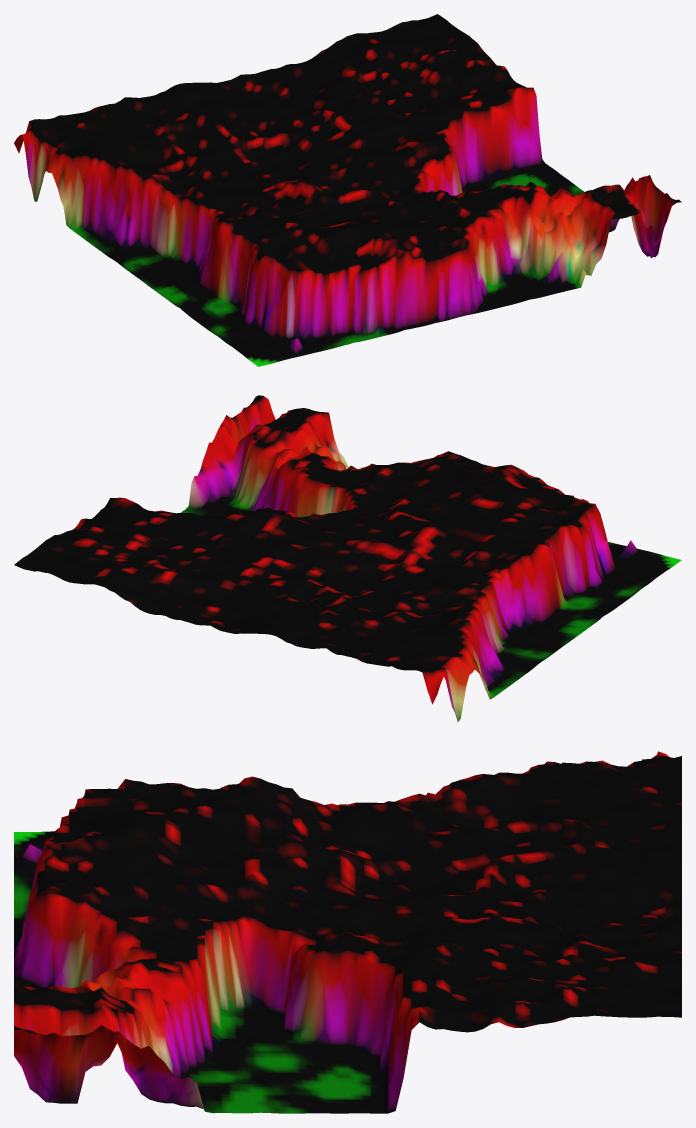
File: SM_AlUla_Terrain_3_3.fbx
3 renders of one model, top to bottom at view 1: azimuth 30°, elevation 25°; view 2: azimuth 150°, elevation 25°; view 3: azimuth 270°, elevation 25°, orthographic. The views are drawn at different scales.
Visible parts, largest first — view 1: SM_AlUla_Terrain_3_3; view 2: SM_AlUla_Terrain_3_3; view 3: SM_AlUla_Terrain_3_3.
Boxes of the visible parts, x1,y1,x2,y2 form: SM_AlUla_Terrain_3_3: (14, 14, 681, 366); SM_AlUla_Terrain_3_3: (14, 395, 681, 722); SM_AlUla_Terrain_3_3: (14, 751, 681, 1113).
Size of the model in its own units: 50400 by 8471 by 50400.
